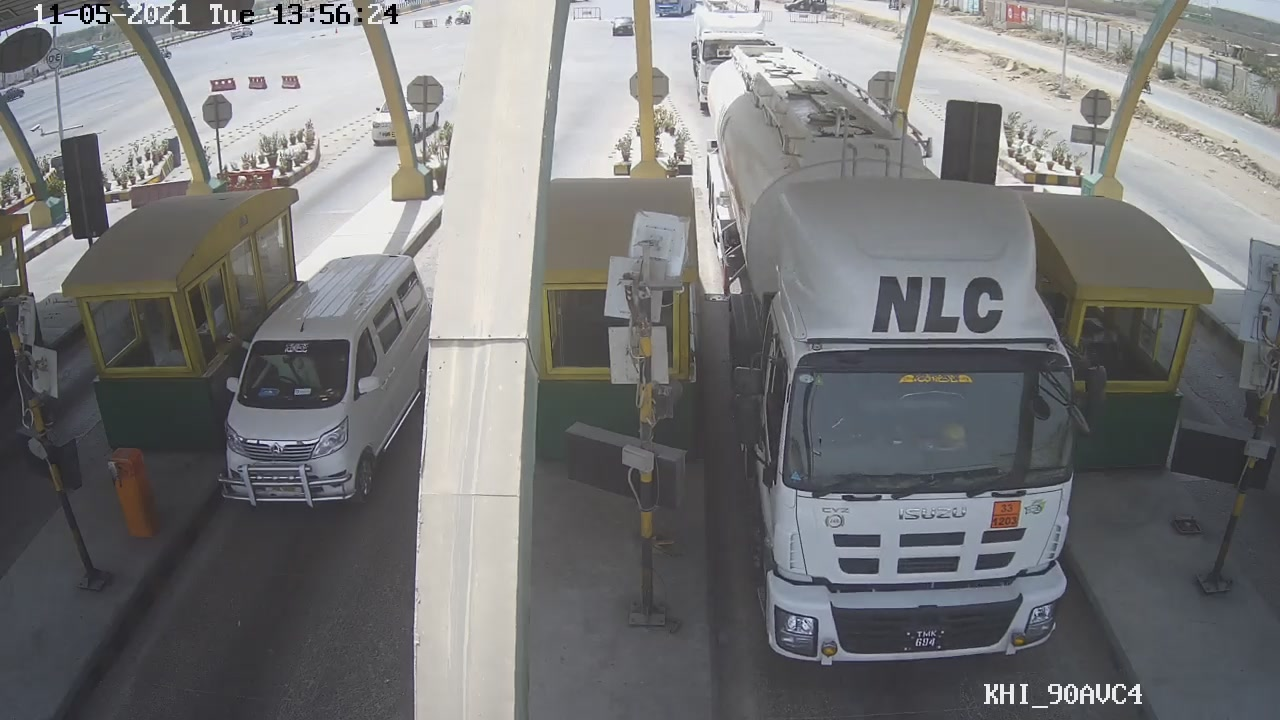F6: (703, 31, 1104, 669)
